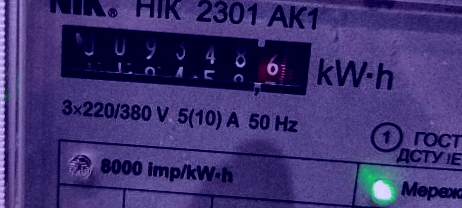0: (81, 29, 96, 56), (111, 32, 127, 56)
3: (171, 35, 187, 62)
4: (201, 37, 217, 65)
6: (263, 49, 282, 77)
8: (231, 41, 248, 70)
9: (140, 34, 157, 61)
screen: (47, 15, 321, 104)
